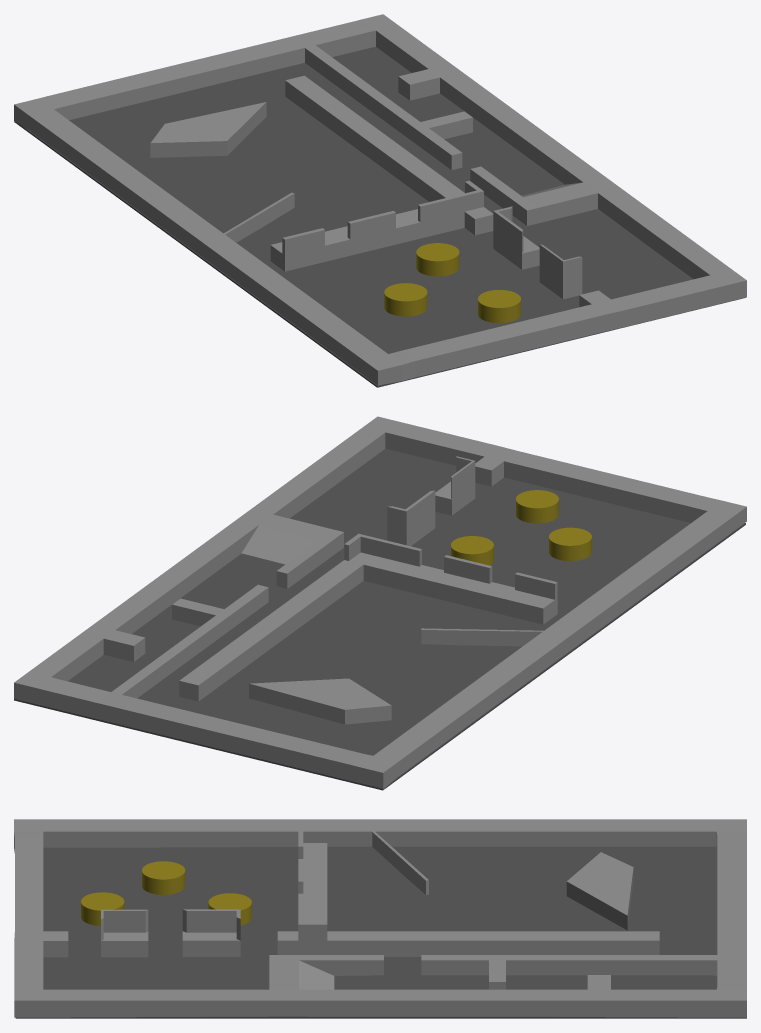
Rendered from TestLocation.fbx.
3 renders of one model, top to bottom at view 1: azimuth 30°, elevation 25°; view 2: azimuth 150°, elevation 25°; view 3: azimuth 270°, elevation 25°, orthographic.
Parts seen in each view (by area): view 1: Walls, Floor, Obstacle, Сistern, Cistern2, Cistern3; view 2: Walls, Floor, Obstacle, Cistern3, Cistern2, Сistern; view 3: Walls, Floor, Obstacle, Cistern2, Cistern3, Сistern.
Part boxes in pixels (x1,y1,x2,y2): Walls: [14, 14, 746, 385]; Floor: [14, 47, 745, 387]; Obstacle: [150, 102, 266, 157]; Сistern: [416, 243, 459, 276]; Cistern2: [384, 283, 427, 316]; Cistern3: [478, 290, 520, 323]; Walls: [14, 416, 746, 789]; Floor: [14, 448, 745, 790]; Obstacle: [249, 678, 391, 724]; Cistern3: [516, 490, 558, 523]; Cistern2: [549, 527, 591, 560]; Сistern: [451, 536, 493, 565]; Walls: [14, 819, 746, 1017]; Floor: [15, 846, 746, 1018]; Obstacle: [566, 852, 633, 930]; Cistern2: [142, 861, 185, 894]; Cistern3: [81, 892, 124, 925]; Сistern: [208, 893, 251, 925].
Size of the model in its own units: 6058 by 619 by 10339.
